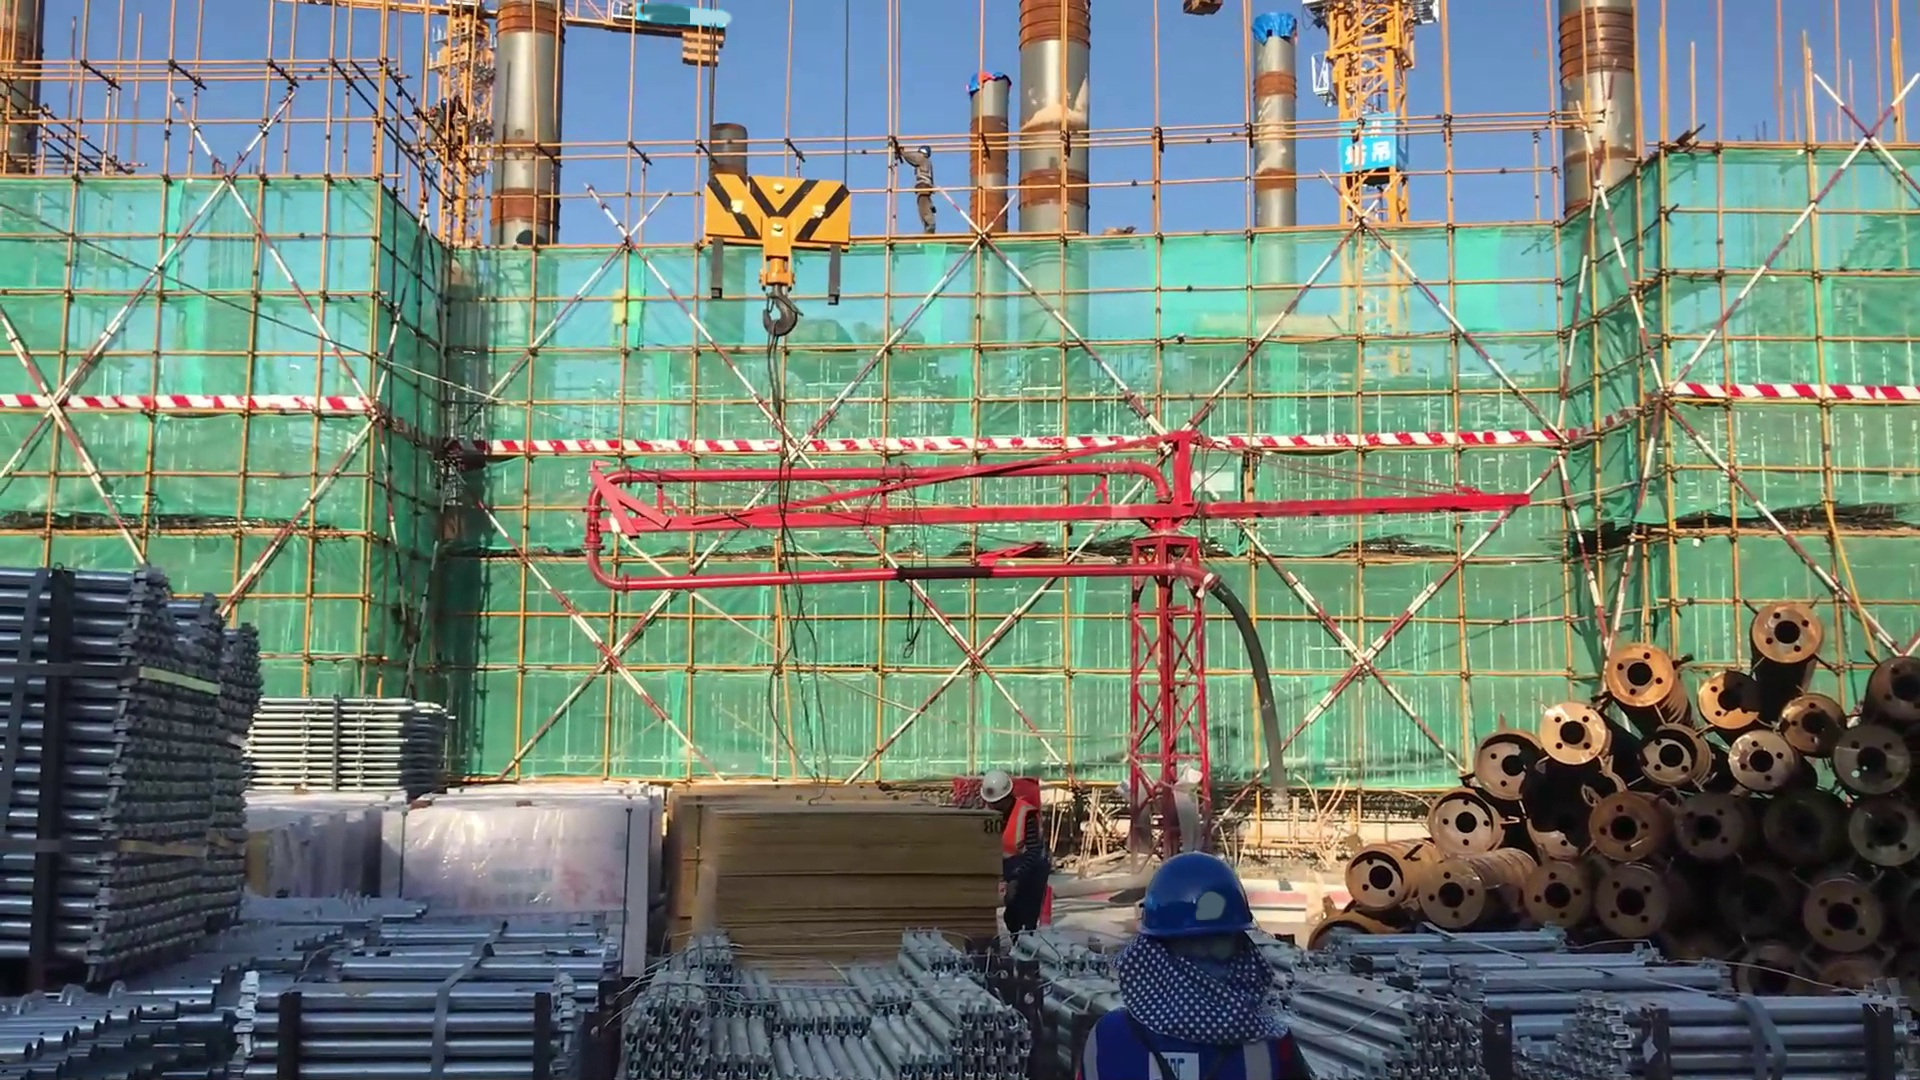board: (663, 784, 988, 952)
helmet: (1141, 843, 1263, 934), (979, 773, 1015, 799), (918, 144, 936, 162)
hook: (677, 155, 859, 376)
person: (1078, 849, 1321, 1080), (967, 775, 1060, 946), (885, 126, 940, 249)
scaffold: (1, 573, 252, 1079), (1279, 924, 1920, 1074), (251, 887, 621, 1080), (626, 930, 1058, 1080), (256, 685, 458, 792)
slogan: (1341, 112, 1404, 178)
vest: (1080, 1005, 1297, 1080), (991, 799, 1051, 884)
